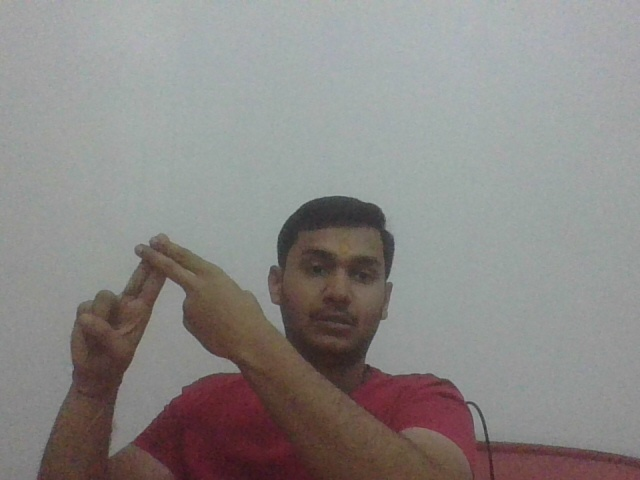F: (65, 230, 266, 372)
